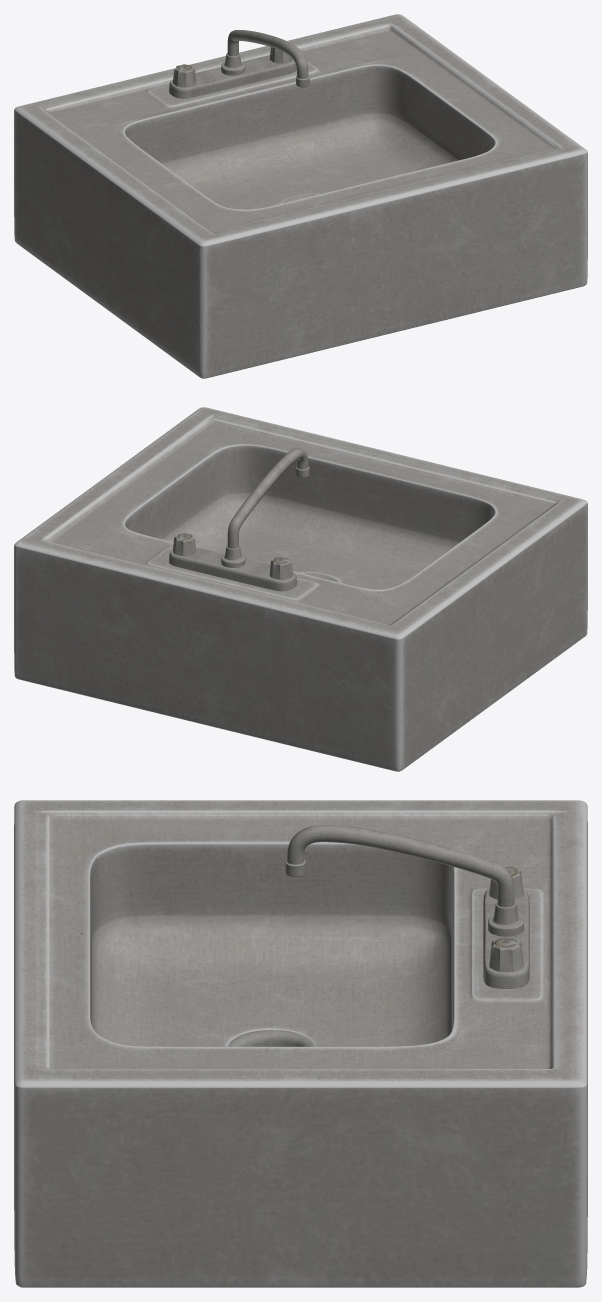
The model's file is sink.glb.
The picture shows the model from 3 angles, top to bottom: view 1: azimuth 30°, elevation 25°; view 2: azimuth 150°, elevation 25°; view 3: azimuth 270°, elevation 25°; orthographic projection. The views are drawn at different scales.
Parts seen in each view (by area): view 1: sink, faucetBase, spout, l_faucetHandle; view 2: sink, faucetBase, spout, l_faucetHandle, r_faucetHandle; view 3: sink, spout, faucetBase, drain, r_faucetHandle.
Part boxes in pixels (bbox=[...]): sink: bbox=[14, 14, 587, 378]; faucetBase: bbox=[169, 55, 296, 98]; spout: bbox=[221, 30, 309, 87]; l_faucetHandle: bbox=[173, 64, 196, 87]; sink: bbox=[14, 407, 587, 771]; faucetBase: bbox=[169, 547, 296, 591]; spout: bbox=[221, 448, 309, 567]; l_faucetHandle: bbox=[269, 556, 293, 579]; r_faucetHandle: bbox=[173, 533, 196, 556]; sink: bbox=[14, 800, 587, 1287]; spout: bbox=[285, 825, 523, 936]; faucetBase: bbox=[483, 888, 529, 988]; drain: bbox=[228, 1030, 314, 1046]; r_faucetHandle: bbox=[489, 937, 523, 972].
Bounding box in the file's own units: 0.6352 × 0.3323 × 0.5372.
2 materials, 2 textured.
